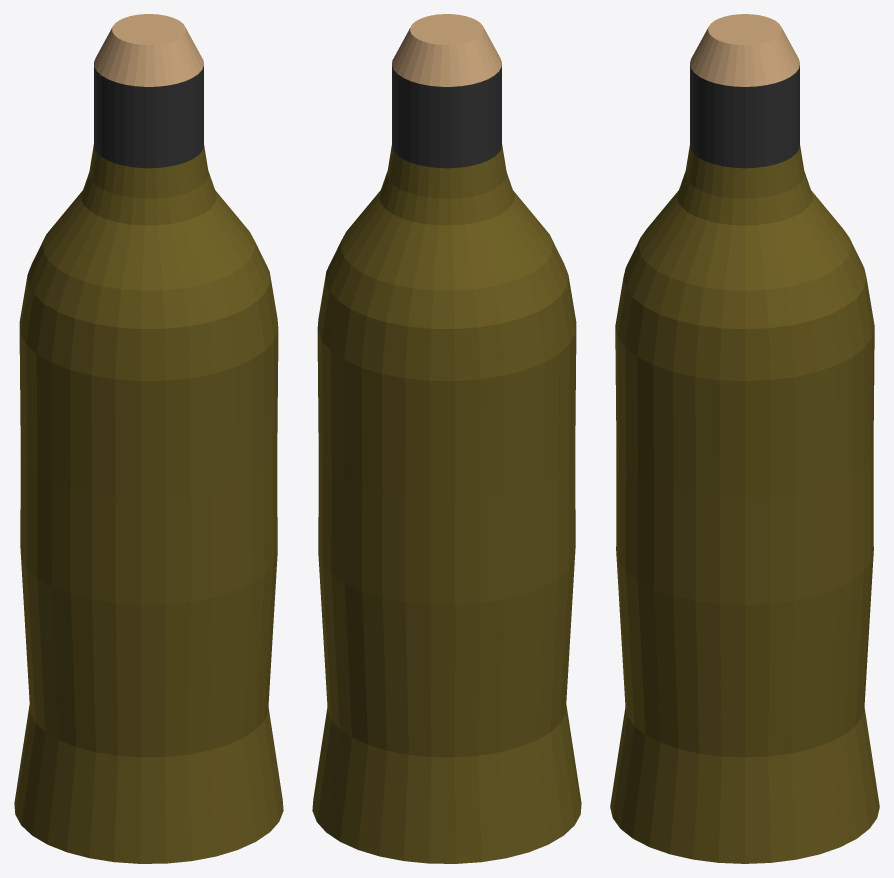
Rendered from (Multi)WineBottle6WIP.fbx.
3 views of the same model, side by side, from view 1: azimuth 30°, elevation 25°; view 2: azimuth 150°, elevation 25°; view 3: azimuth 270°, elevation 25° (orthographic).
Visible parts, largest first — view 1: Cylinder; view 2: Cylinder; view 3: Cylinder.
Boxes of the visible parts, x1=… form: Cylinder: x1=14, y1=14, x2=283, y2=863; Cylinder: x1=312, y1=14, x2=581, y2=863; Cylinder: x1=610, y1=14, x2=879, y2=863.
Size of the model in its own units: 19.31 by 61.42 by 19.31.
